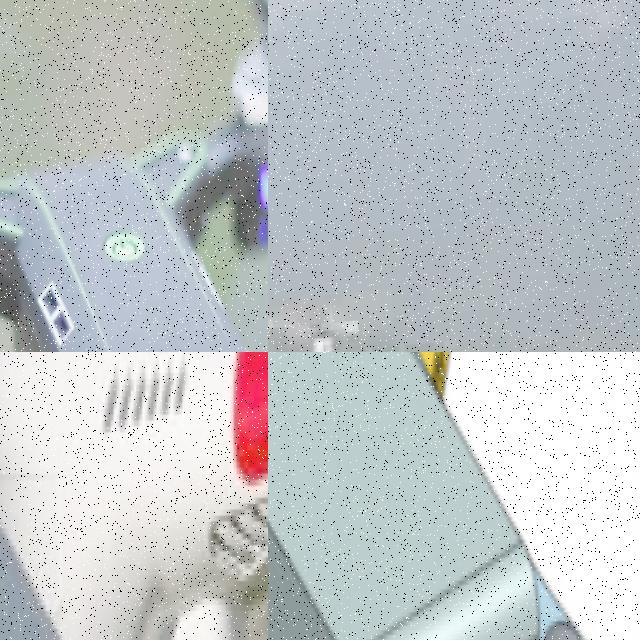drone: (268, 352, 640, 640), (0, 0, 268, 352), (0, 352, 268, 640)
